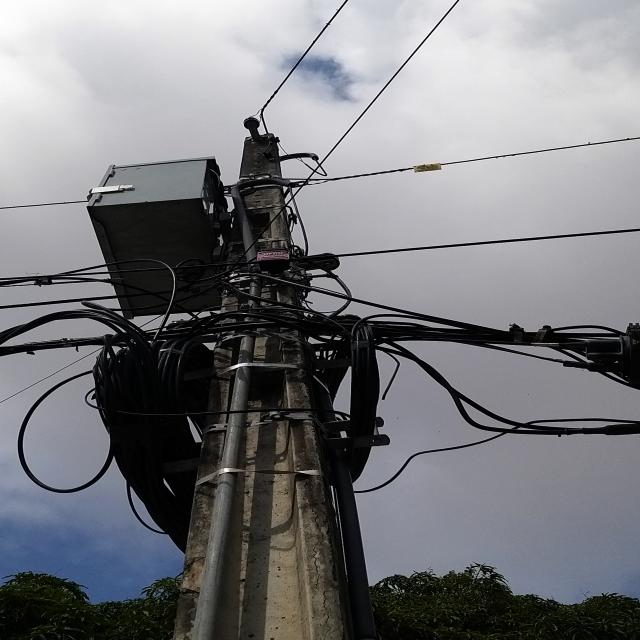Plaqueta: (256, 251, 290, 260)
